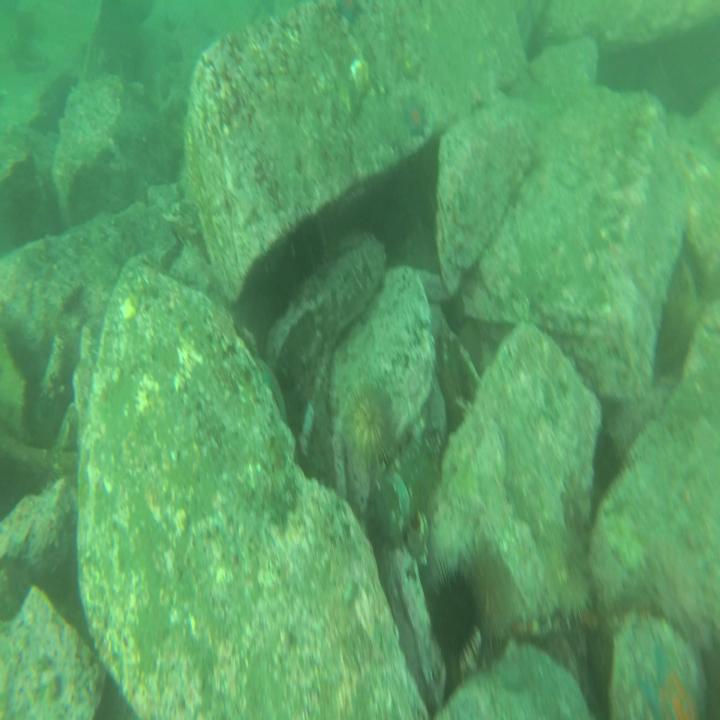echinus: (425, 551, 483, 670), (538, 521, 593, 627), (346, 383, 393, 464), (472, 553, 511, 645)
starfish: (640, 639, 704, 720), (401, 92, 428, 140)
